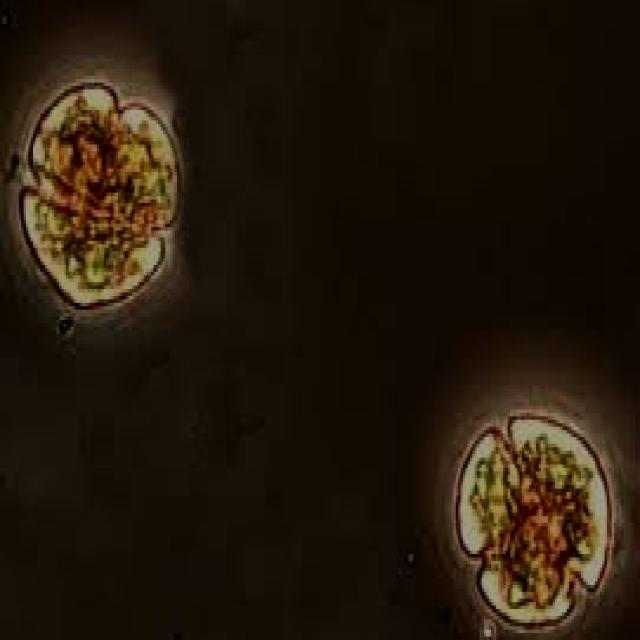Karenia: (17, 71, 181, 315), (455, 415, 617, 632)
